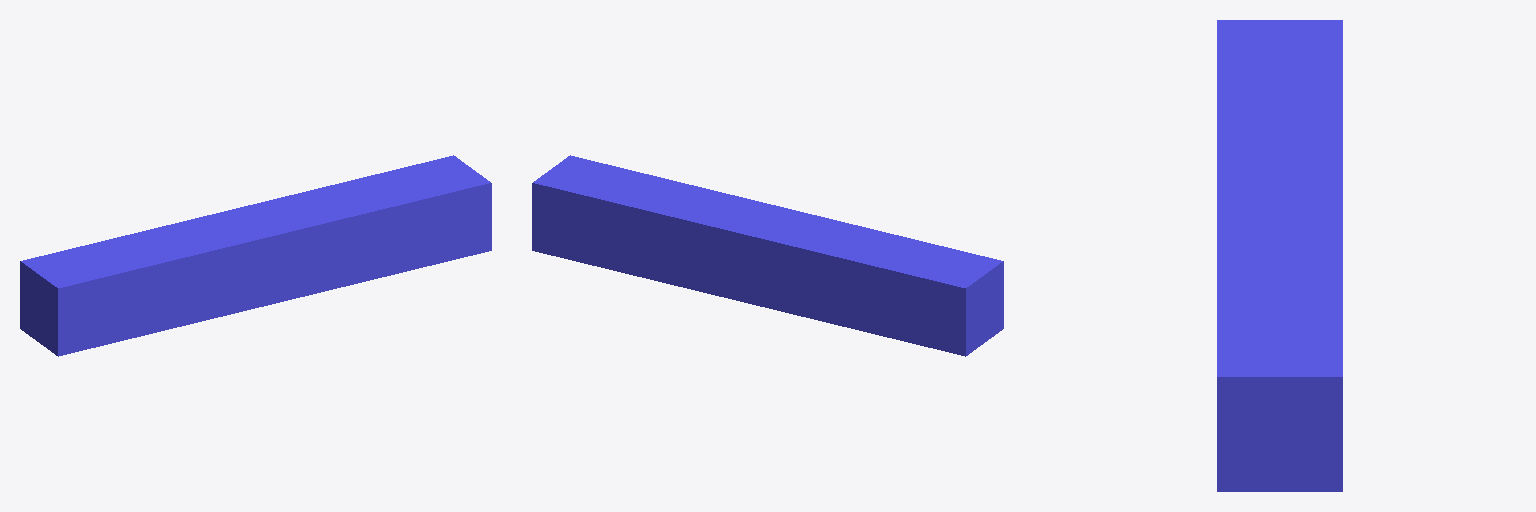
URDF robot description (block):
<robot name="block">
  <link name="block">
    <visual>
      <origin xyz="0 0 0"/>
      <geometry>
        <box size="0.4 0.060 0.060" />
      </geometry>
      <material name="red">
        <color rgba="0.4 0.4 1.0 1.0"/>
      </material>
    </visual>

    <collision>
      <origin xyz="0 0 0"/>
      <geometry>
        <box size="0.4 0.060 0.060" />
      </geometry>
    </collision>
<contact>
      <lateral_friction value="1.0"/>
      <rolling_friction value="0.0001"/>
      <inertia_scaling value="3.0"/>
    </contact>
    <inertial>
      <origin rpy="0 0 0" xyz="0 0 0"/>
       <mass value="0.1"/>
       <inertia ixx="1" ixy="0" ixz="0" iyy="1" iyz="0" izz="1"/>
    </inertial>
  </link>

</robot>

--- Render facts (derived) ---
The picture shows the robot from 3 angles, left to right: view 1: azimuth 30°, elevation 25°; view 2: azimuth 150°, elevation 25°; view 3: azimuth 270°, elevation 25°; orthographic projection.
Model block with 1 links and 0 joints (none), rooted at block, posed all joints at 0.
Visible links, largest first — view 1: block; view 2: block; view 3: block.
Boxes of the visible links, x1,y1,x2,y2 form: block: [20, 155, 491, 356]; block: [532, 155, 1003, 356]; block: [1217, 20, 1342, 491].
Bounding box of the posed robot: 0.4 × 0.06 × 0.06 m (x, y, z).
Geometry: primitives only (box / cylinder / sphere), no mesh files.